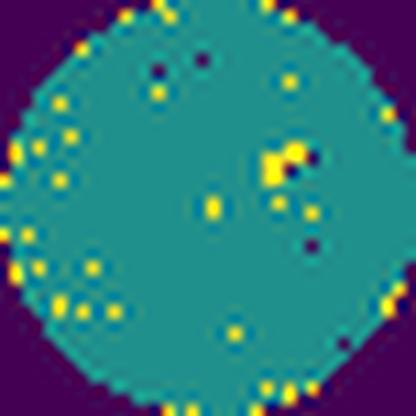Loc: (260, 137, 304, 184)
